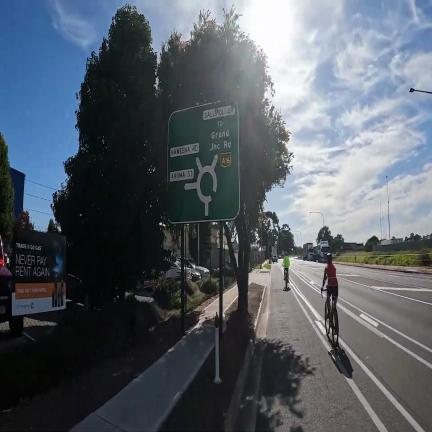Bike_Lane: (234, 268, 378, 432)
